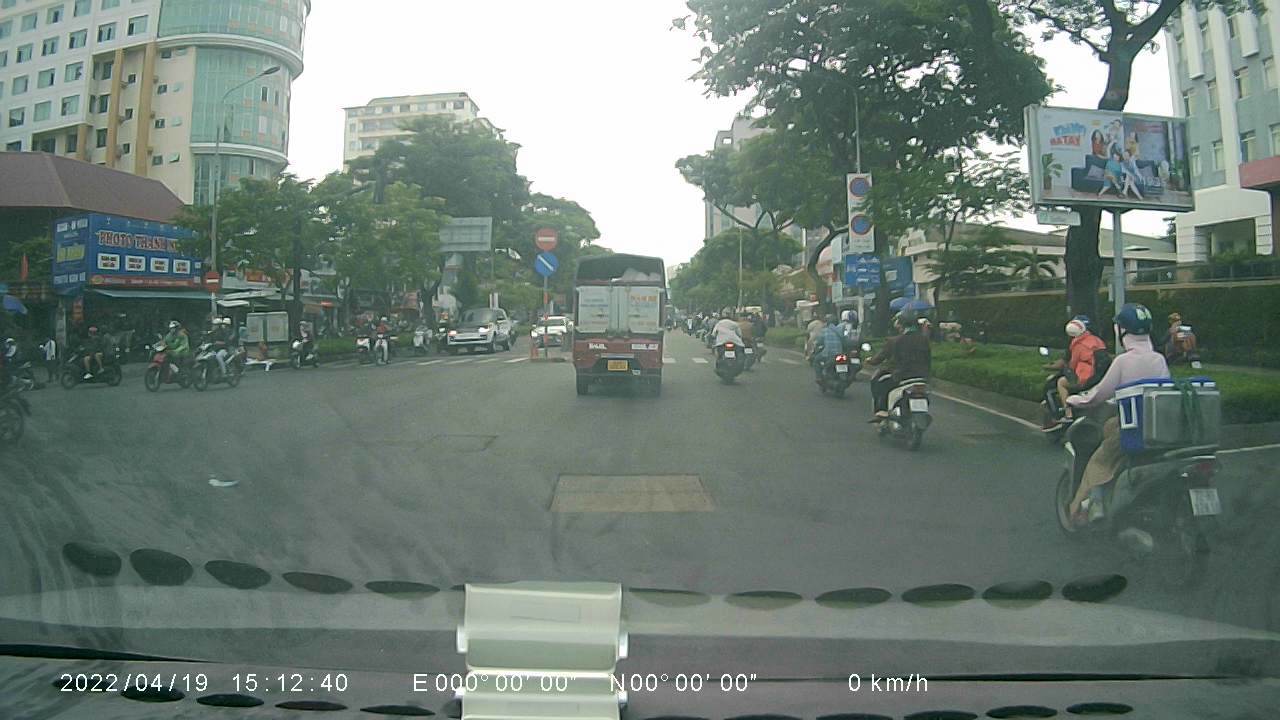Cam di nguoc chieu: (532, 223, 560, 248)
Huong di phai re phai: (533, 253, 559, 277)
